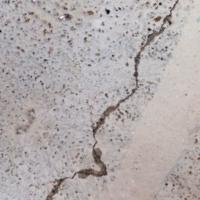crack: (43, 14, 173, 199)
